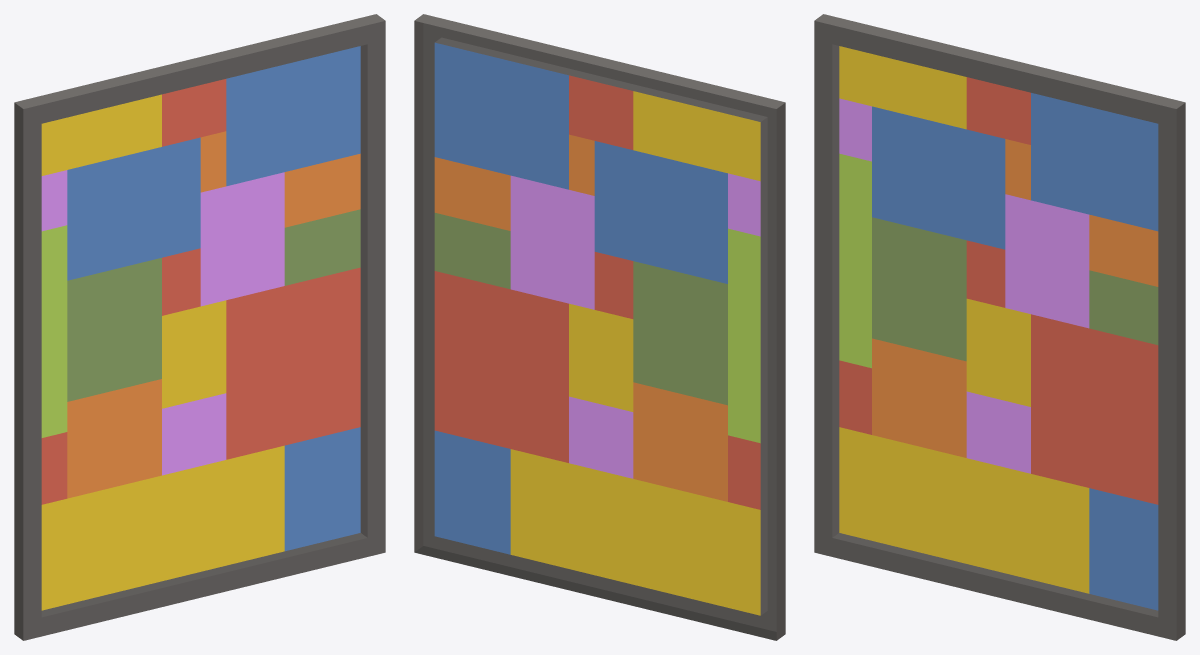
Rendered from Painting2.glb.
3 views of the same model, side by side, from view 1: azimuth 30°, elevation 25°; view 2: azimuth 150°, elevation 25°; view 3: azimuth 330°, elevation 25° (orthographic).
Visible parts, largest first — view 1: SO_Painting_02; view 2: SO_Painting_02; view 3: SO_Painting_02.
Boxes of the visible parts, box(x1,y1,x2,y2) form: SO_Painting_02: box(14, 14, 385, 640); SO_Painting_02: box(414, 14, 785, 640); SO_Painting_02: box(814, 14, 1185, 640).
Size of the model in its own units: 0.00801 by 0.0112 by 0.000354.
Materials: 1 (1 with a texture image).
